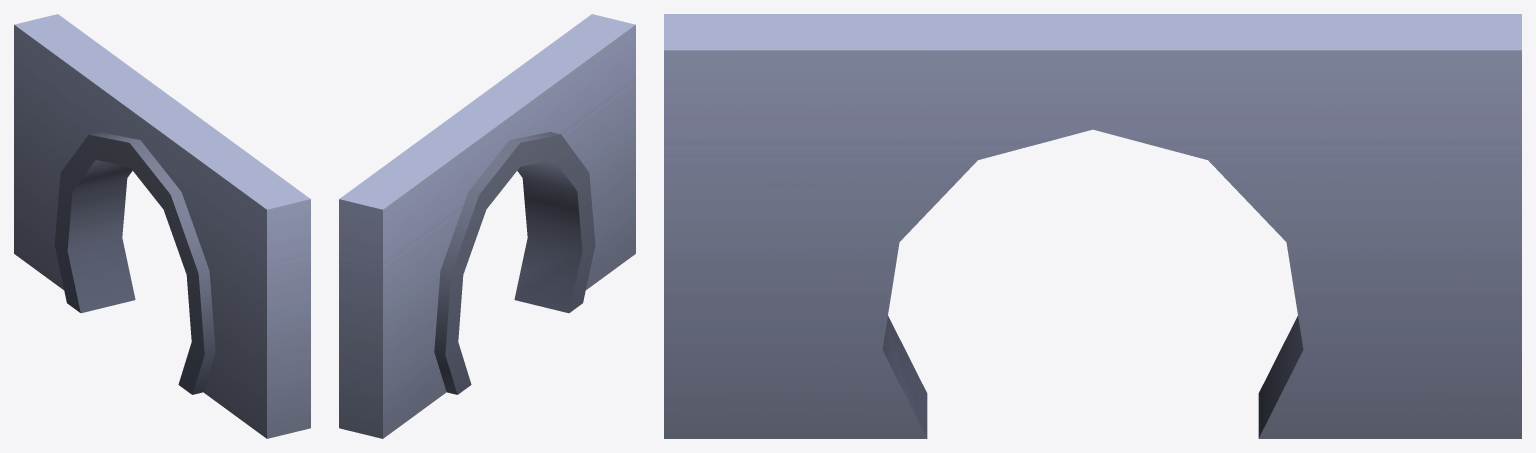
The model's file is wall-doorway-round.glb.
3 views of the same model, side by side, from view 1: azimuth 30°, elevation 25°; view 2: azimuth 150°, elevation 25°; view 3: azimuth 270°, elevation 25° (orthographic). The views are drawn at different scales.
Visible parts, largest first — view 1: wall-doorway-round; view 2: wall-doorway-round; view 3: wall-doorway-round.
Boxes of the visible parts, box(x1,y1,x2,y2) form: wall-doorway-round: box(14, 14, 310, 438); wall-doorway-round: box(339, 14, 635, 438); wall-doorway-round: box(664, 14, 1521, 438).
Bounding box in the file's own units: 0.25 × 1 × 2.
Materials: 1 (1 with a texture image).
